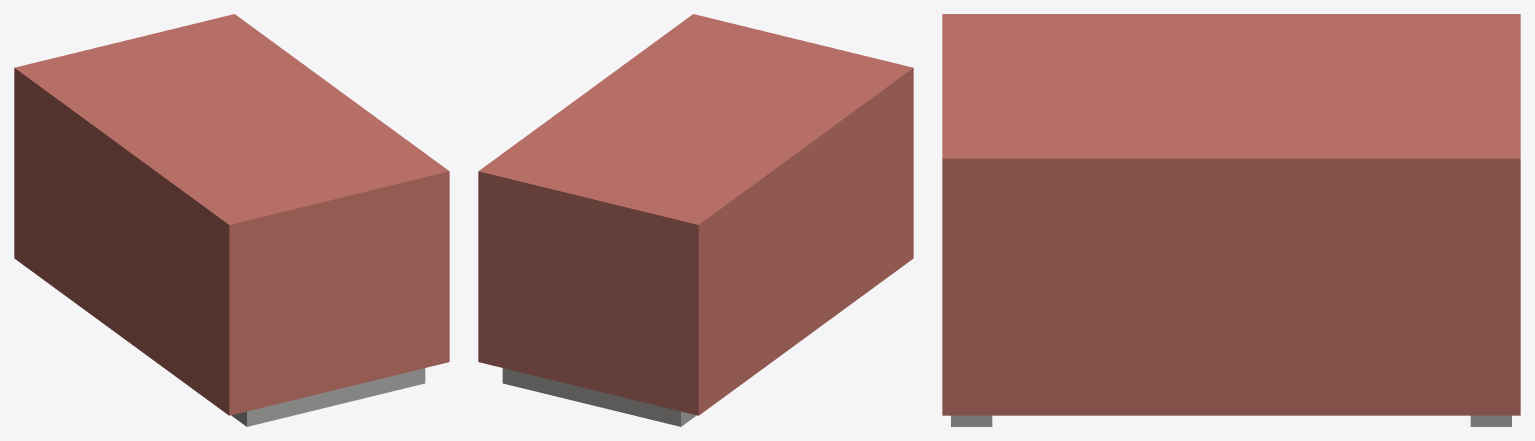
The model's file is Fusivel_UniDoom.glb.
3 views of the same model, side by side, from view 1: azimuth 30°, elevation 25°; view 2: azimuth 150°, elevation 25°; view 3: azimuth 270°, elevation 25° (orthographic). The views are drawn at different scales.
Parts seen in each view (by area): view 1: FUSIVEL_1_DESTACAVEL, fusivel_1_metal_top; view 2: FUSIVEL_1_DESTACAVEL, fusivel_1_metal_bottom; view 3: FUSIVEL_1_DESTACAVEL.
Boxes of the visible parts, x1,y1,x2,y2 form: FUSIVEL_1_DESTACAVEL: (14,14,449,415); fusivel_1_metal_top: (231,368,425,426); FUSIVEL_1_DESTACAVEL: (478,14,913,415); fusivel_1_metal_bottom: (502,368,696,426); FUSIVEL_1_DESTACAVEL: (942,14,1520,415).
Bounding box in the file's own units: 0.29 × 0.2635 × 0.49.
